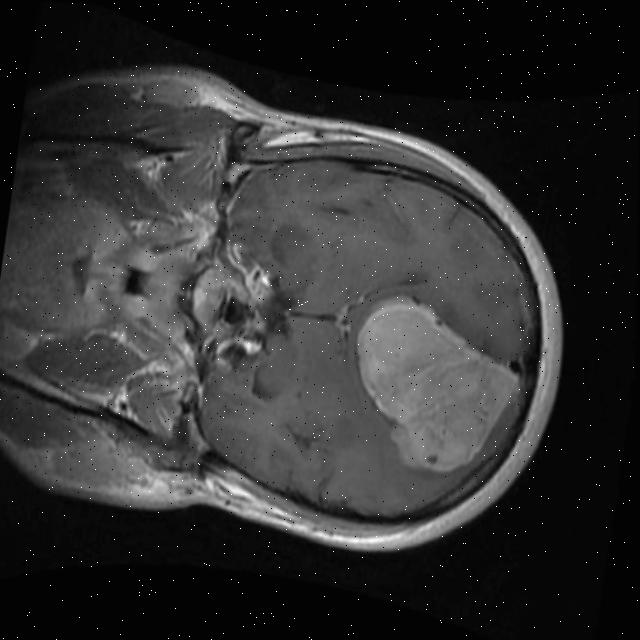Meningioma: (340, 286, 528, 485)
